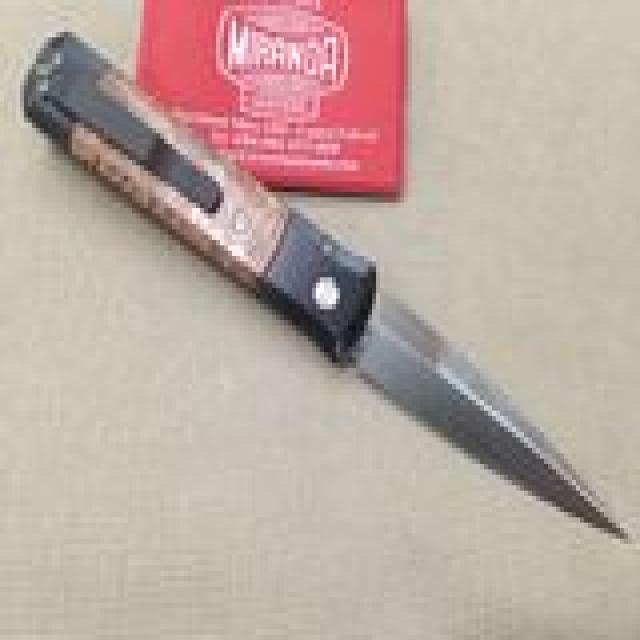Knife: (27, 11, 630, 564)
